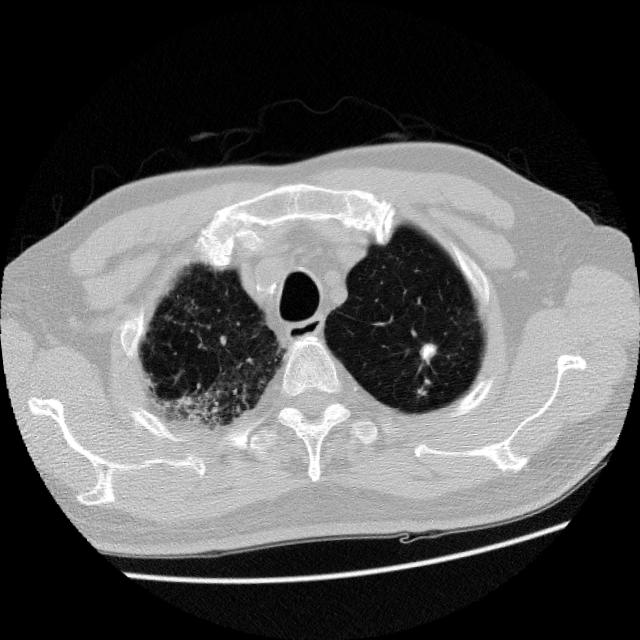nodule: (400, 324, 452, 376)
